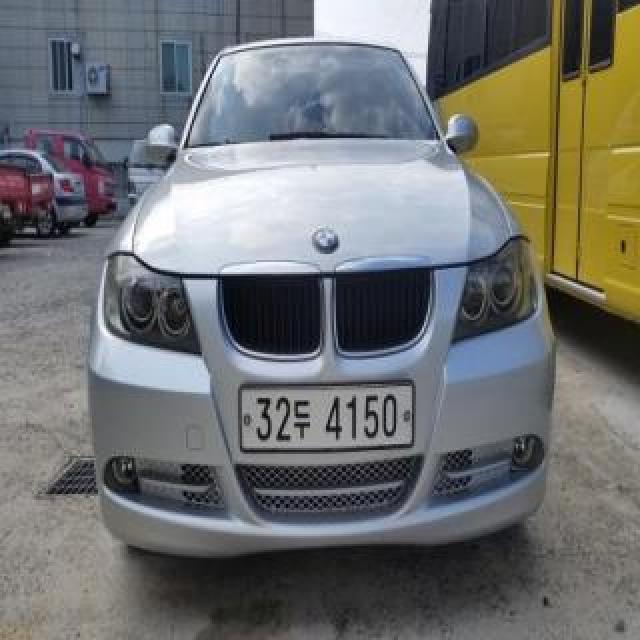car: (85, 28, 560, 590)
illegal_plate: (234, 381, 416, 464)
